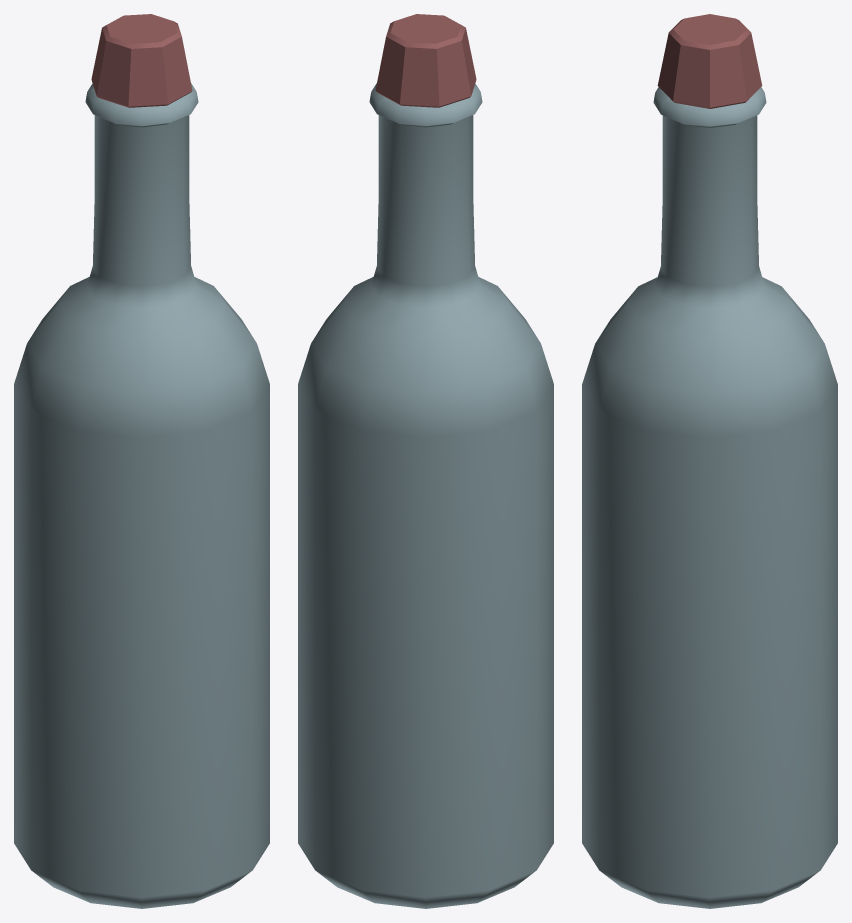
The model's file is B2-6_Bottle.fbx.
3 renders of one model, left to right at view 1: azimuth 30°, elevation 25°; view 2: azimuth 150°, elevation 25°; view 3: azimuth 270°, elevation 25°, orthographic.
Visible parts, largest first — view 1: Bottle; view 2: Bottle; view 3: Bottle.
Part boxes in pixels (x1=…): Bottle: x1=14, y1=14, x2=269, y2=908; Bottle: x1=298, y1=14, x2=553, y2=908; Bottle: x1=582, y1=14, x2=837, y2=908.
Bounding box in the file's own units: 2 × 7.21 × 2.
